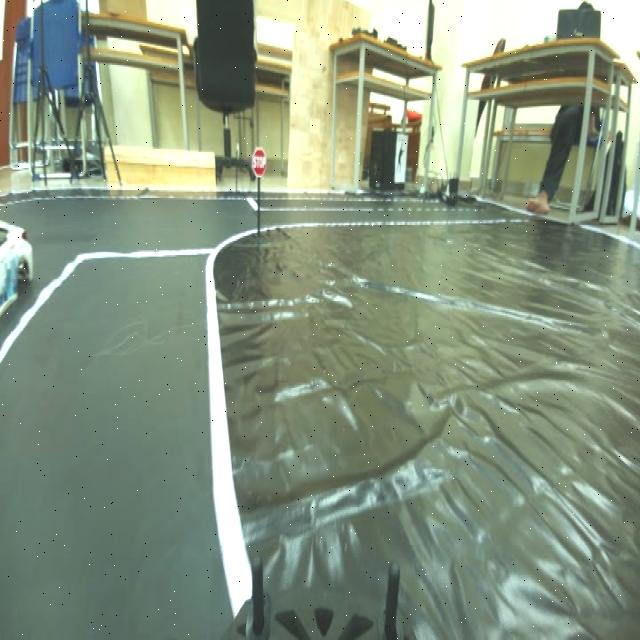stop: (250, 144, 274, 186)
